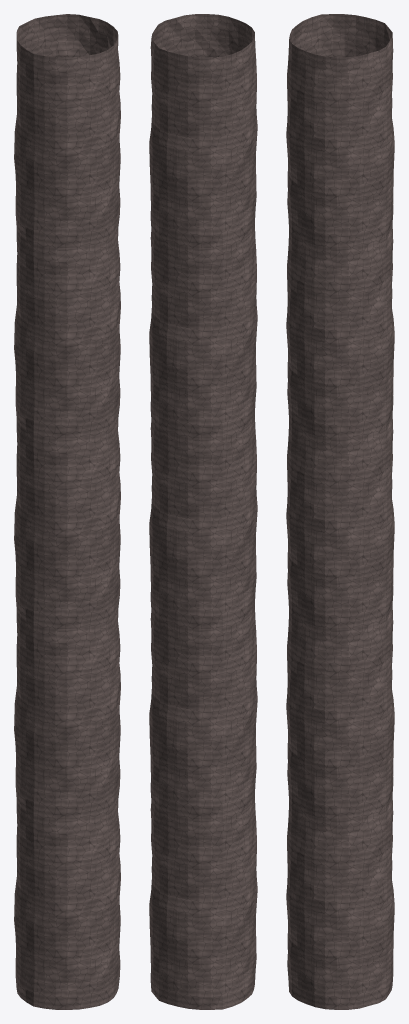
The model's file is Circle4Walls.obj.
3 views of the same model, side by side, from view 1: azimuth 90°, elevation 25°; view 2: azimuth 150°, elevation 25°; view 3: azimuth 330°, elevation 25° (orthographic).
Visible parts, largest first — view 1: Circle4Walls; view 2: Circle4Walls; view 3: Circle4Walls.
Boxes of the visible parts, <box> form: Circle4Walls: <box>14,14,120,1009</box>; Circle4Walls: <box>149,14,257,1009</box>; Circle4Walls: <box>286,14,394,1009</box>.
Size of the model in its own units: 36.75 by 350 by 35.59.
1 material, 1 textured.
